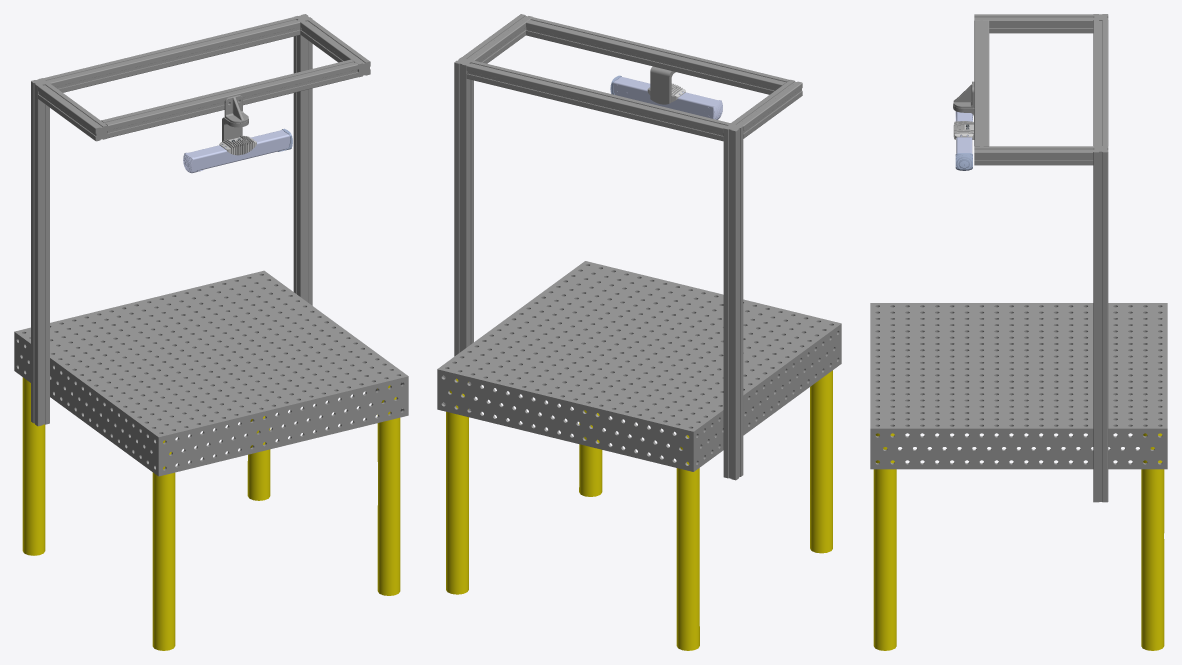
Rendered from table_orig.dae.
The picture shows the model from 3 angles, left to right: view 1: azimuth 30°, elevation 25°; view 2: azimuth 150°, elevation 25°; view 3: azimuth 270°, elevation 25°; orthographic projection. The views are drawn at different scales.
Visible parts, largest first — view 1: workcell (×30); view 2: workcell (×31); view 3: workcell (×20).
Boxes of the visible parts, x1,y1,x2,y2 form: workcell (×30): (14, 17, 408, 650); workcell (×31): (437, 17, 841, 650); workcell (×20): (870, 20, 1167, 650).
Size of the model in its own units: 1.1 by 1 by 1.88.
